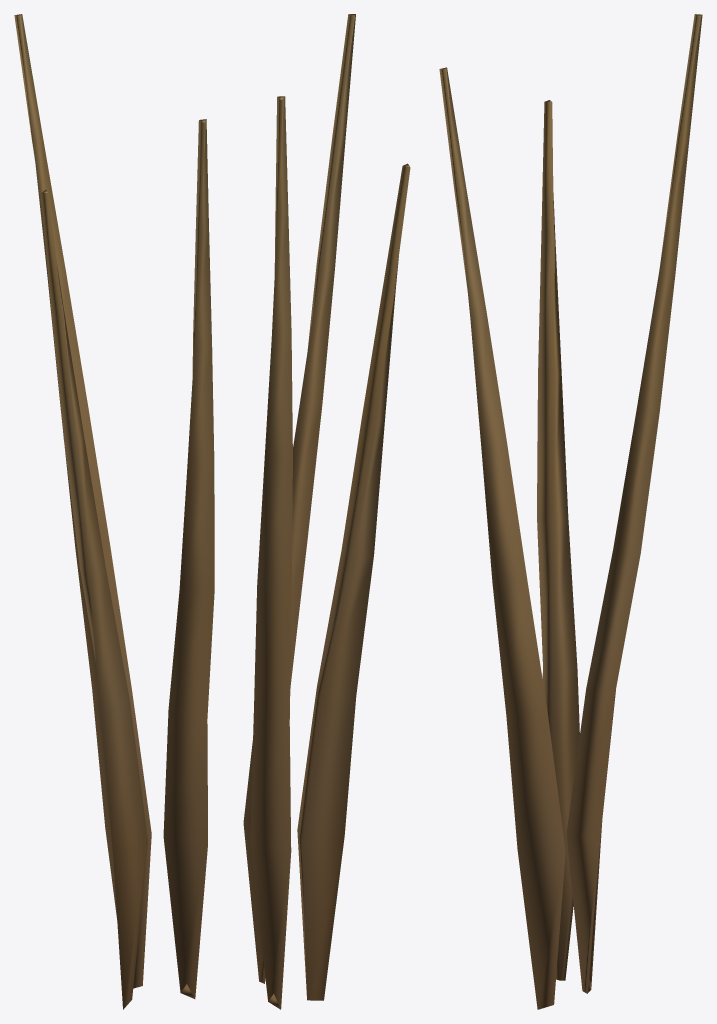
The model's file is trees-grasses-dry-grass-blades_v14.glb.
The picture shows the model from 3 angles, left to right: view 1: azimuth 30°, elevation 25°; view 2: azimuth 150°, elevation 25°; view 3: azimuth 270°, elevation 25°; orthographic projection.
Parts seen in each view (by area): view 1: Dry Grass Blades_v14; view 2: Dry Grass Blades_v14; view 3: Dry Grass Blades_v14.
Boxes of the visible parts, x1,y1,x2,y2 form: Dry Grass Blades_v14: (14, 14, 214, 1009); Dry Grass Blades_v14: (243, 14, 410, 1009); Dry Grass Blades_v14: (439, 14, 702, 1009).
Bounding box in the file's own units: 0.1032 × 0.6 × 0.1508.
